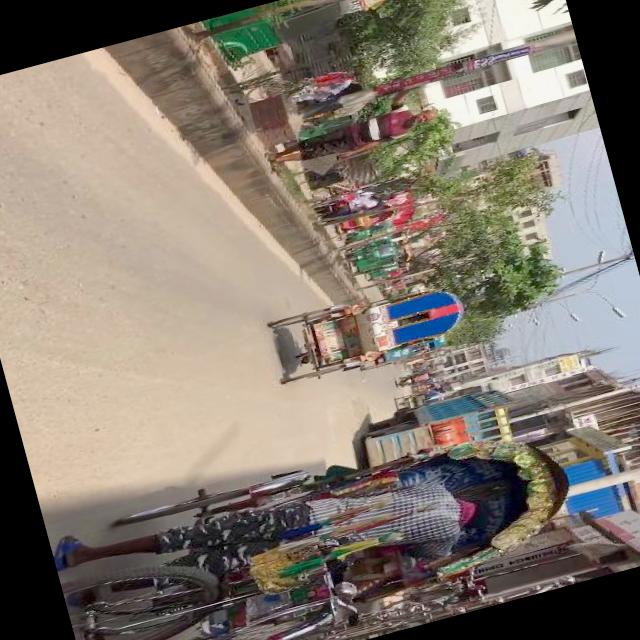motorcycle: (47, 399, 589, 640), (270, 272, 472, 386), (248, 54, 379, 144), (210, 0, 360, 74), (328, 204, 402, 244), (310, 184, 370, 228), (348, 240, 401, 276), (396, 386, 446, 412), (367, 262, 403, 280)
truck: (358, 381, 526, 466)
